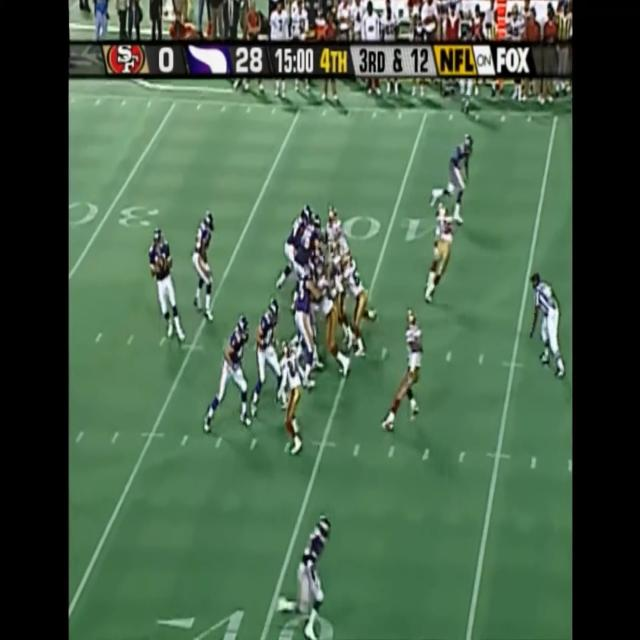players: (205, 314, 256, 436), (286, 513, 333, 640), (302, 268, 352, 387), (382, 310, 426, 439), (146, 225, 188, 348), (291, 252, 328, 383), (433, 135, 477, 229), (529, 270, 566, 381), (277, 338, 310, 457), (344, 252, 380, 361), (280, 204, 322, 296), (424, 203, 460, 310), (190, 206, 222, 324), (252, 301, 284, 411)
